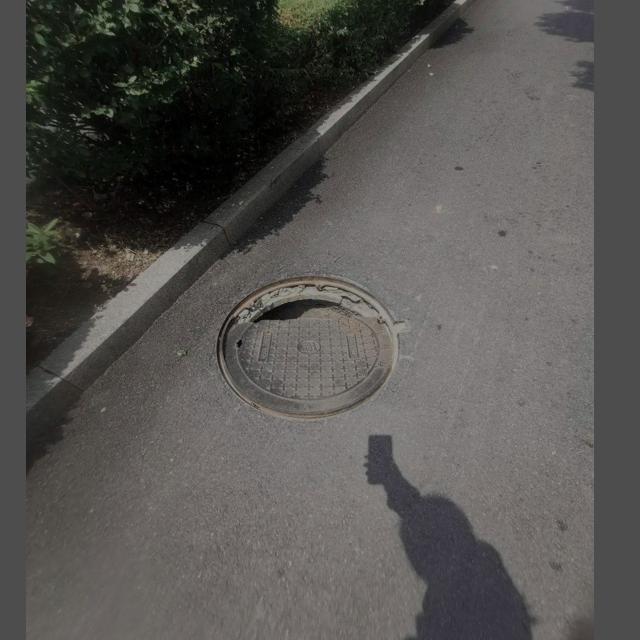broke: (219, 276, 409, 418)
